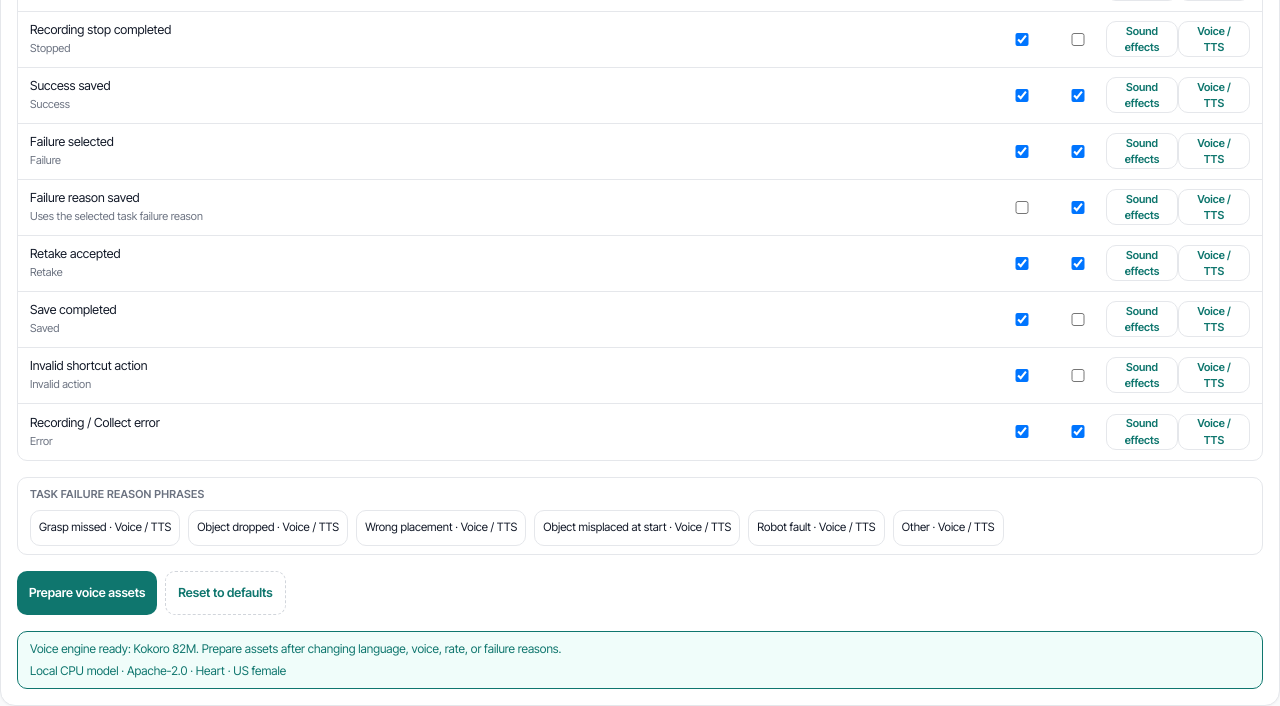
Test case: voice preview reports preparation in progress instead of not prepared
(page scrolled)
Click the button "Prepare voice assets" at (87, 593), box [17,571,157,615]
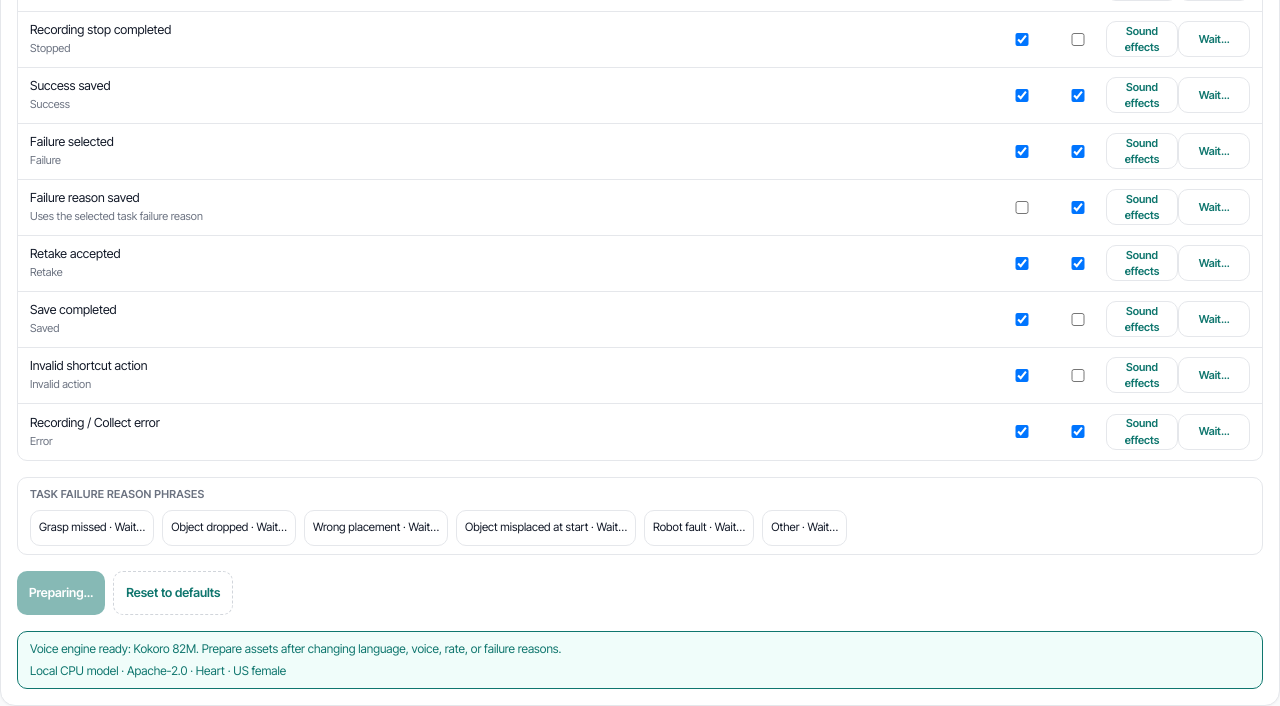
Check: the button named "Prepare voice assets" reads "Preparing…", box [17,571,105,615]
Click the button with aria-label "Preview voice for Success saved" at (1214, 95), box [1178,77,1250,113]
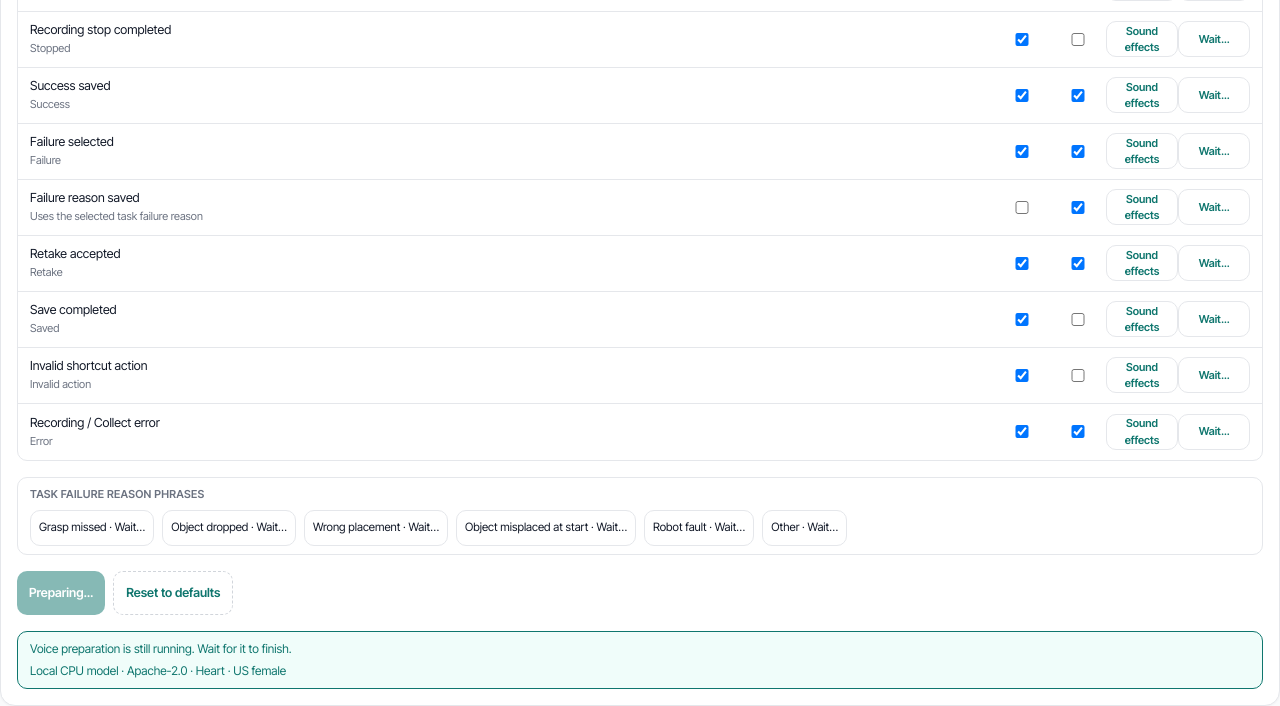
Check: the button with aria-label "Preview voice for Success saved" reads "Wait…", box [1178,77,1250,113]
Check: the text "Voice preparation is still running. Wait for it to finish." is shown, box [30,641,292,656]
